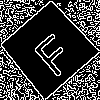F: (24, 24, 78, 80)
